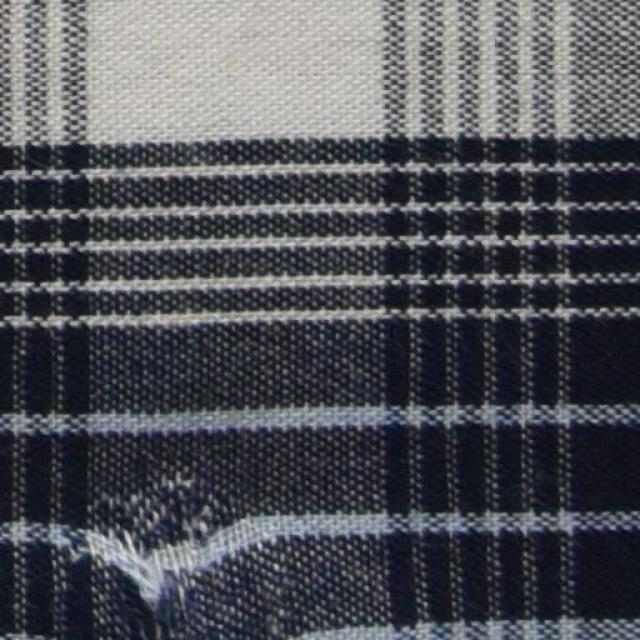Snag: (77, 496, 185, 617)
